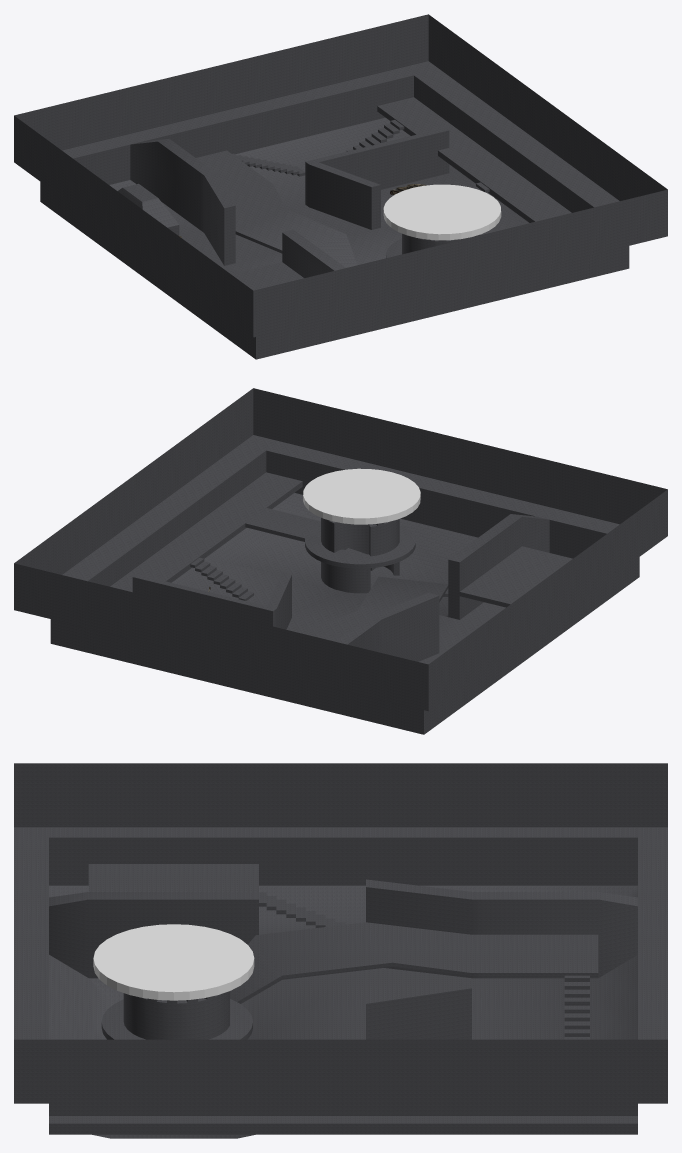
Rendered from collision-world.glb.
3 renders of one model, top to bottom at view 1: azimuth 30°, elevation 25°; view 2: azimuth 150°, elevation 25°; view 3: azimuth 270°, elevation 25°, orthographic. The views are drawn at different scales.
Parts seen in each view (by area): view 1: Cube.004, Cylinder; view 2: Cube.004, Cylinder; view 3: Cube.004, Cylinder.
Boxes of the visible parts, x1,y1,x2,y2 form: Cube.004: (14,14,667,359); Cylinder: (383,184,501,240); Cube.004: (14,388,667,734); Cylinder: (303,468,420,524); Cube.004: (14,763,667,1138); Cylinder: (93,924,254,1000).
Bounding box in the file's own units: 34.36 × 8.6 × 34.36.
Materials: 8 (8 with a texture image).
